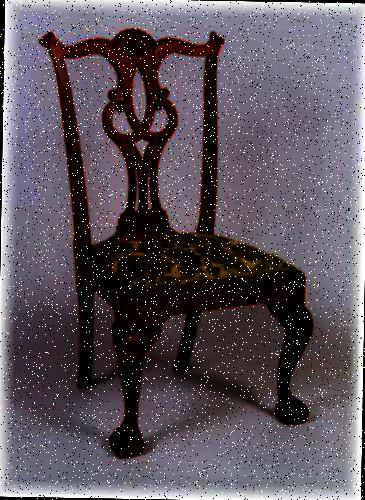Silla: (35, 35, 313, 457)
